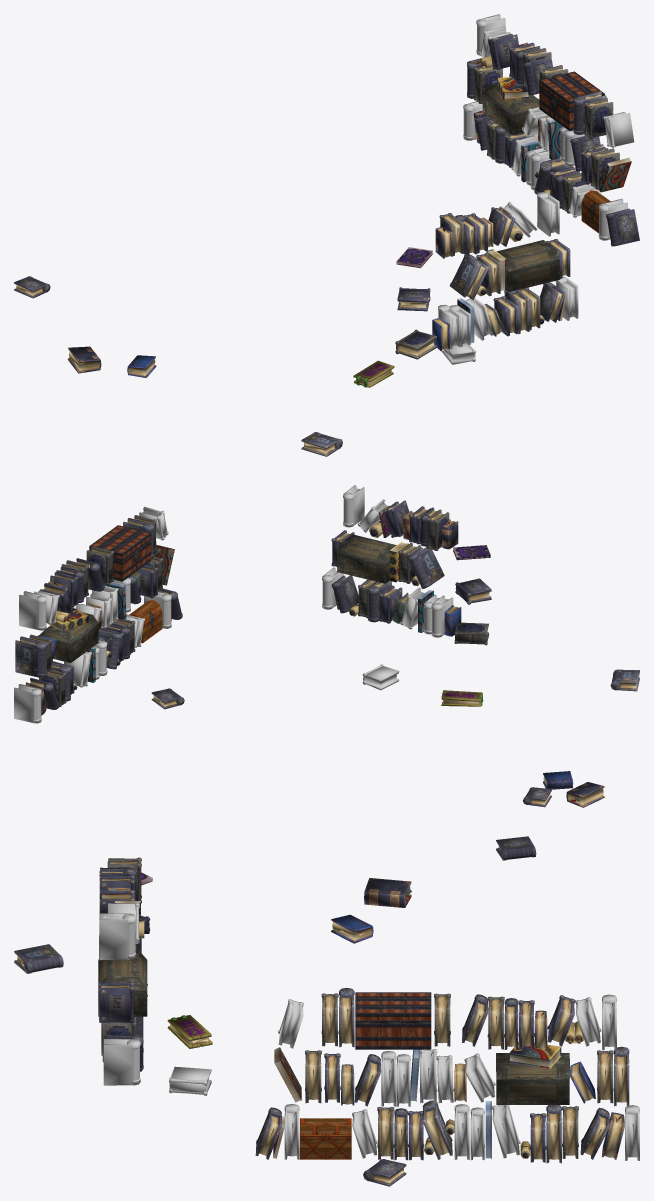
File: magniroom_bookgroup.obj
3 views of the same model, one above another, from view 1: azimuth 30°, elevation 25°; view 2: azimuth 150°, elevation 25°; view 3: azimuth 270°, elevation 25° (orthographic). The views are drawn at different scales.
Parts seen in each view (by area): view 1: Geoset3, Geoset14, Geoset9, Geoset12, Geoset10, Geoset8, Geoset11, Geoset0, Geoset13, Geoset1; view 2: Geoset3, Geoset14, Geoset9, Geoset12, Geoset10, Geoset8, Geoset11, Geoset0, Geoset13, Geoset1, Geoset4; view 3: Geoset3, Geoset14, Geoset12, Geoset9, Geoset7, Geoset10, Geoset8, Geoset5, Geoset13, Geoset0, Geoset11, Geoset4 (+1 smaller).
Part boxes in pixels (box(x1,y1,x2,y2)): Geoset3: box(14, 34, 639, 456); Geoset14: box(438, 14, 634, 364); Geoset9: box(482, 82, 559, 291); Geoset12: box(67, 42, 608, 377); Geoset10: box(396, 120, 631, 343); Geoset8: box(539, 71, 604, 109); Geoset11: box(486, 77, 528, 290); Geoset0: box(581, 190, 610, 233); Geoset13: box(353, 360, 394, 387); Geoset1: box(539, 88, 569, 130); Geoset3: box(15, 500, 639, 807); Geoset14: box(14, 485, 453, 723); Geoset9: box(39, 534, 396, 662); Geoset12: box(25, 510, 604, 807); Geoset10: box(87, 505, 490, 682); Geoset8: box(89, 525, 151, 561); Geoset11: box(47, 542, 408, 631); Geoset0: box(129, 600, 162, 642); Geoset13: box(441, 690, 483, 706); Geoset1: box(122, 541, 151, 581); Geoset4: box(55, 521, 419, 690); Geoset3: box(14, 836, 629, 1186); Geoset14: box(99, 903, 639, 1160); Geoset12: box(107, 862, 624, 1159); Geoset9: box(98, 950, 569, 1104); Geoset7: box(355, 1023, 431, 1049); Geoset10: box(99, 871, 491, 1158); Geoset8: box(355, 992, 431, 1013); Geoset5: box(300, 1136, 351, 1159); Geoset13: box(167, 1015, 212, 1048); Geoset0: box(300, 1118, 351, 1136); Geoset11: box(135, 944, 561, 1068); Geoset4: box(139, 921, 583, 1158).
Bounding box in the file's own units: 17.85 × 5.5 × 14.88.
